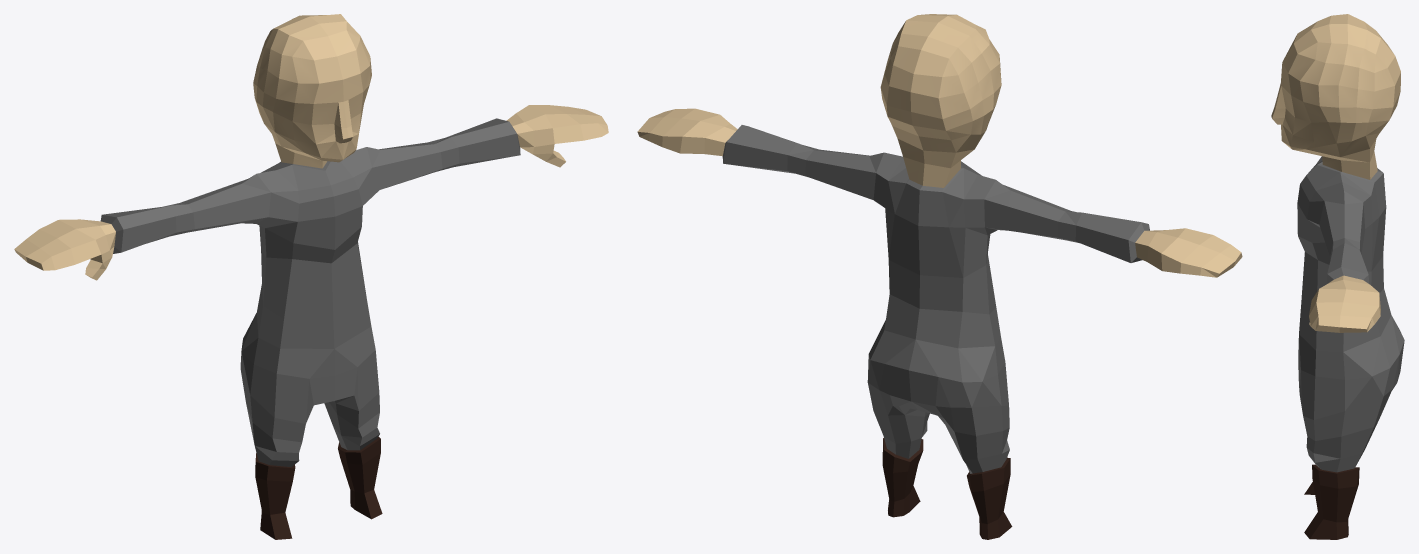
The model's file is KnightCharacter_Standing_ColorFixed.fbx.
3 views of the same model, side by side, from view 1: azimuth 30°, elevation 25°; view 2: azimuth 150°, elevation 25°; view 3: azimuth 270°, elevation 25° (orthographic). The views are drawn at different scales.
Visible parts, largest first — view 1: Knight; view 2: Knight; view 3: Knight.
Boxes of the visible parts, x1=… form: Knight: x1=14, y1=14, x2=608, y2=539; Knight: x1=637, y1=14, x2=1242, y2=539; Knight: x1=1271, y1=14, x2=1404, y2=539.
Size of the model in its own units: 680 by 560 by 138.
